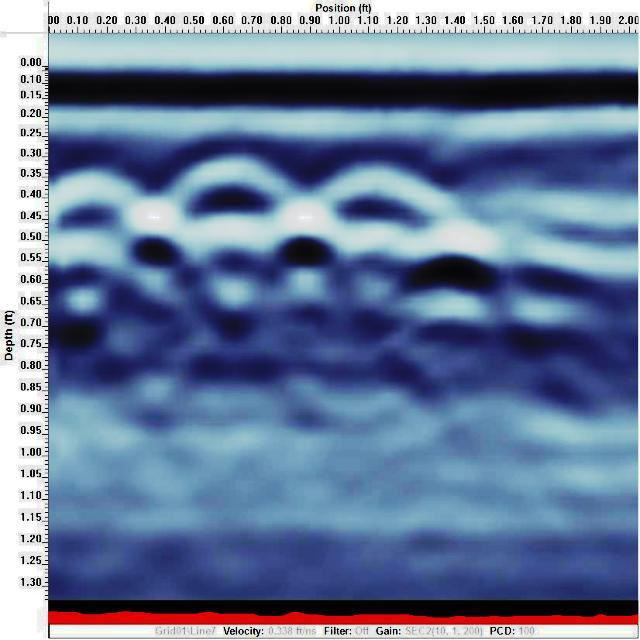hyperbola: (161, 139, 314, 248), (321, 142, 468, 249), (51, 162, 170, 250)
